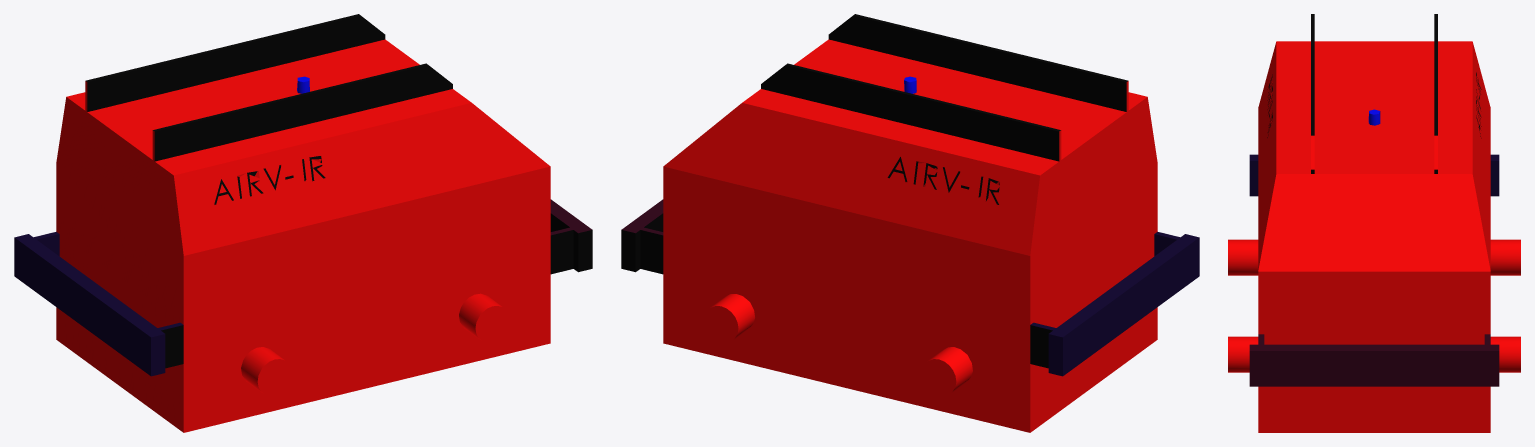
File: atrv_body.dae
3 renders of one model, left to right at view 1: azimuth 30°, elevation 25°; view 2: azimuth 150°, elevation 25°; view 3: azimuth 270°, elevation 25°, orthographic. The views are drawn at different scales.
Parts seen in each view (by area): view 1: ATRV_base_4, ATRV_base_2, ATRV_base_5, ATRV_base_6; view 2: ATRV_base_4, ATRV_base_2, ATRV_base_5, ATRV_base_6; view 3: ATRV_base_4, ATRV_base_6, ATRV_base_2, ATRV_base_5.
Boxes of the visible parts, <box> form: ATRV_base_4: <box>56,39,550,432</box>; ATRV_base_2: <box>85,14,592,368</box>; ATRV_base_5: <box>14,232,183,376</box>; ATRV_base_6: <box>550,199,592,235</box>; ATRV_base_4: <box>663,39,1157,432</box>; ATRV_base_2: <box>621,14,1128,368</box>; ATRV_base_5: <box>1030,232,1199,376</box>; ATRV_base_6: <box>621,199,663,235</box>; ATRV_base_4: <box>1228,41,1520,432</box>; ATRV_base_6: <box>1249,334,1499,386</box>; ATRV_base_2: <box>1267,14,1481,173</box>; ATRV_base_5: <box>1249,154,1499,196</box>.
Bounding box in the file's own units: 0.77 × 0.485 × 0.467.
